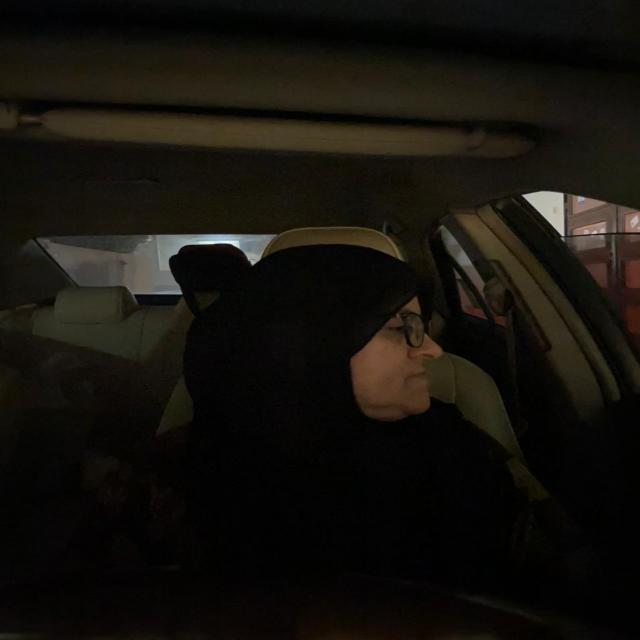LeftRight: (216, 252, 467, 432)
